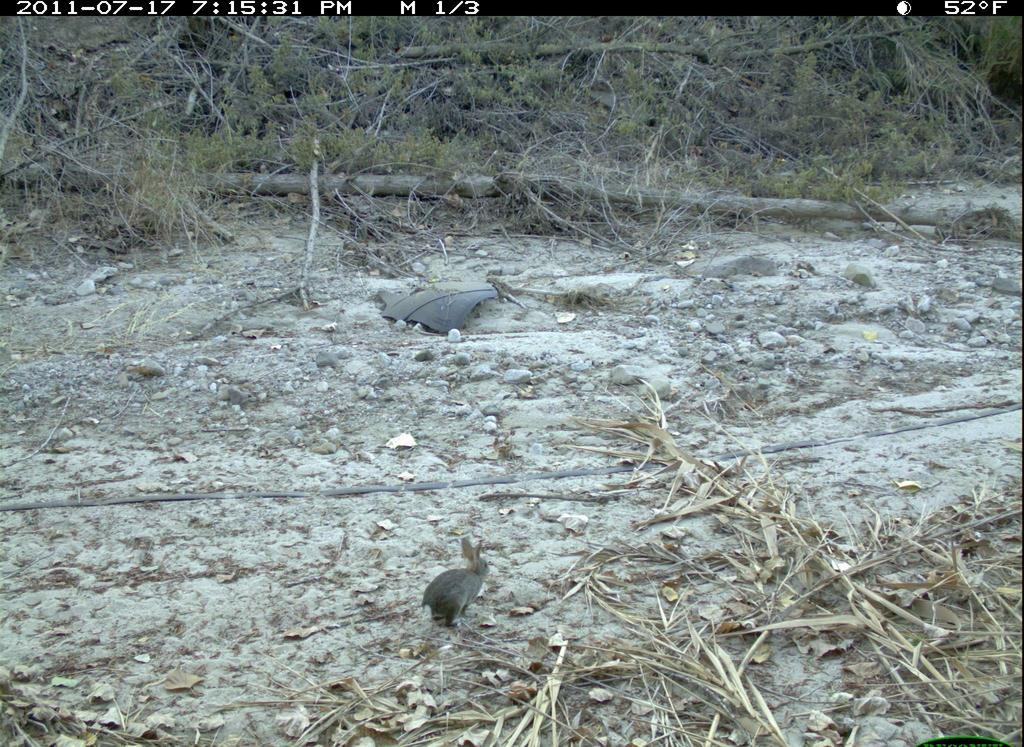rabbit: (417, 533, 501, 644)
